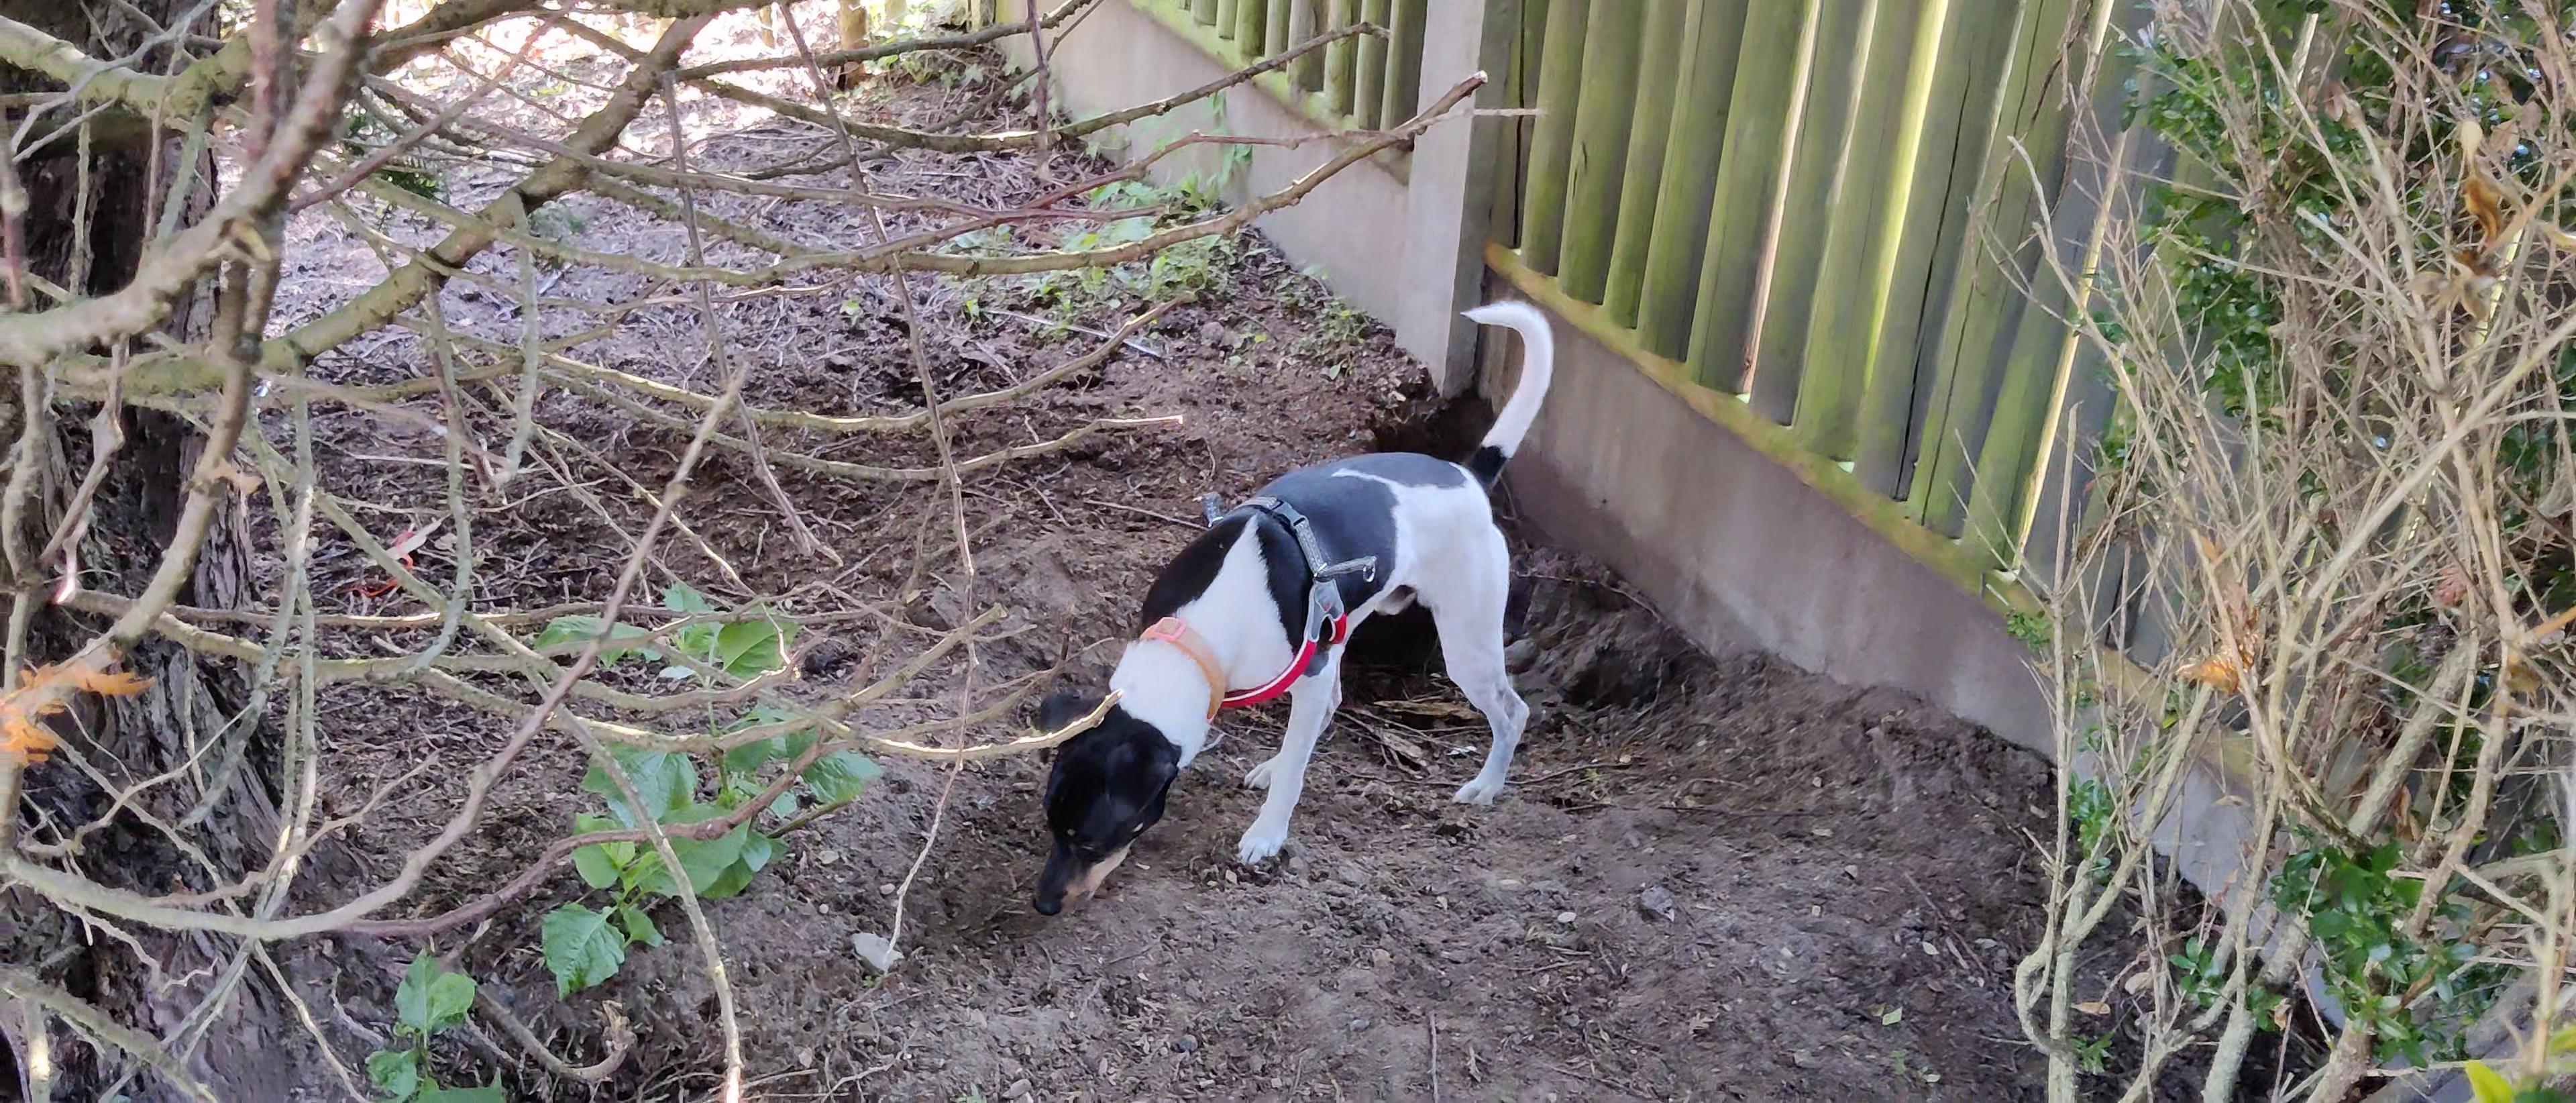Dog: (996, 289, 1567, 927)
